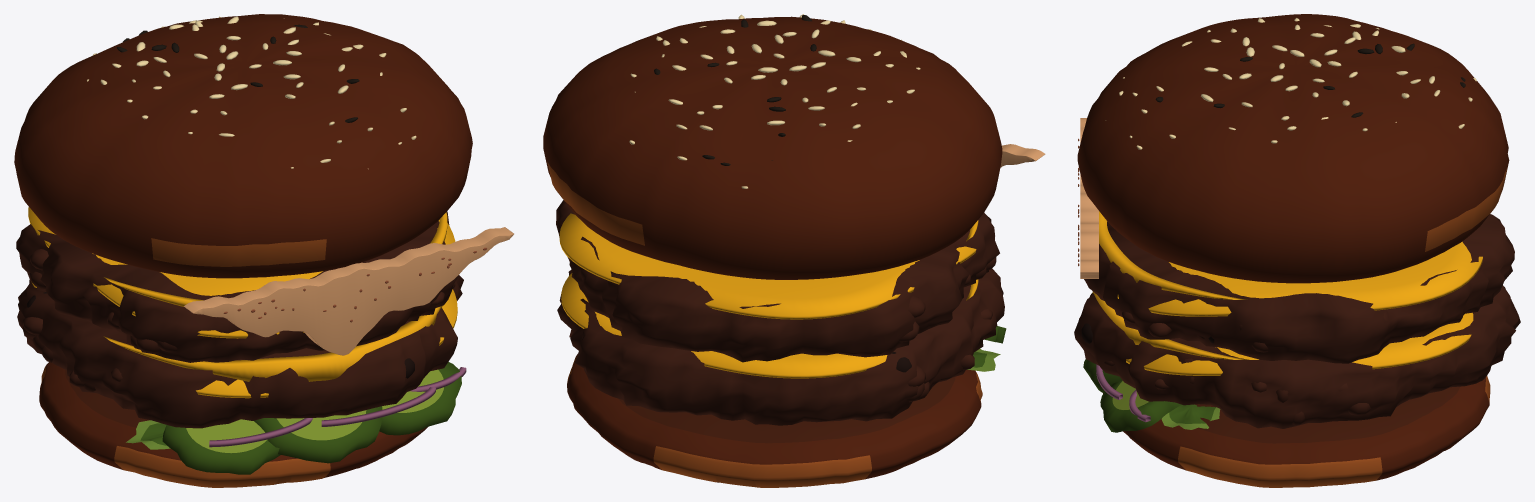
The model's file is cheezishBurger.glb.
3 renders of one model, left to right at view 1: azimuth 30°, elevation 25°; view 2: azimuth 150°, elevation 25°; view 3: azimuth 270°, elevation 25°, orthographic.
Visible parts, largest first — view 1: topBun, pattyBottom, pattyTop, houseSauce, bottomBun, pickles, cheeseBottom, cheeseTop, sesameSeeds, onion, lettuce; view 2: topBun, pattyBottom, bottomBun, pattyTop, cheeseTop, cheeseBottom, sesameSeeds, houseSauce; view 3: topBun, pattyBottom, pattyTop, bottomBun, cheeseTop, cheeseBottom, sesameSeeds, pickles, houseSauce, lettuce, onion.
Part boxes in pixels (left/top/right/bottom): topBun: left=14, top=14, right=472, bottom=278; pattyBottom: left=17, top=275, right=463, bottom=428; pattyTop: left=16, top=211, right=458, bottom=362; houseSauce: left=184, top=227, right=513, bottom=355; bottomBun: left=39, top=362, right=427, bottom=487; pickles: left=162, top=362, right=461, bottom=474; cheeseBottom: left=31, top=281, right=457, bottom=398; cheeseTop: left=28, top=207, right=455, bottom=338; sesameSeeds: left=87, top=16, right=416, bottom=169; onion: left=209, top=367, right=466, bottom=447; lettuce: left=126, top=420, right=170, bottom=449; topBun: left=543, top=16, right=1002, bottom=279; pattyBottom: left=557, top=268, right=1004, bottom=425; bottomBun: left=567, top=354, right=982, bottom=487; pattyTop: left=556, top=200, right=999, bottom=362; cheeseTop: left=559, top=213, right=978, bottom=319; cheeseBottom: left=561, top=273, right=978, bottom=378; sesameSeeds: left=629, top=14, right=920, bottom=188; houseSauce: left=1000, top=144, right=1045, bottom=167; topBun: left=1077, top=14, right=1509, bottom=283; pattyBottom: left=1074, top=285, right=1520, bottom=428; pattyTop: left=1084, top=214, right=1514, bottom=363; bottomBun: left=1103, top=376, right=1490, bottom=487; cheeseTop: left=1099, top=211, right=1482, bottom=316; cheeseBottom: left=1092, top=291, right=1473, bottom=375; sesameSeeds: left=1105, top=18, right=1476, bottom=149; pickles: left=1083, top=359, right=1181, bottom=432; houseSauce: left=1078, top=118, right=1098, bottom=278; lettuce: left=1161, top=404, right=1220, bottom=429; onion: left=1096, top=364, right=1150, bottom=422.
Bounding box in the file's own units: 3.9 × 3.32 × 3.77.
